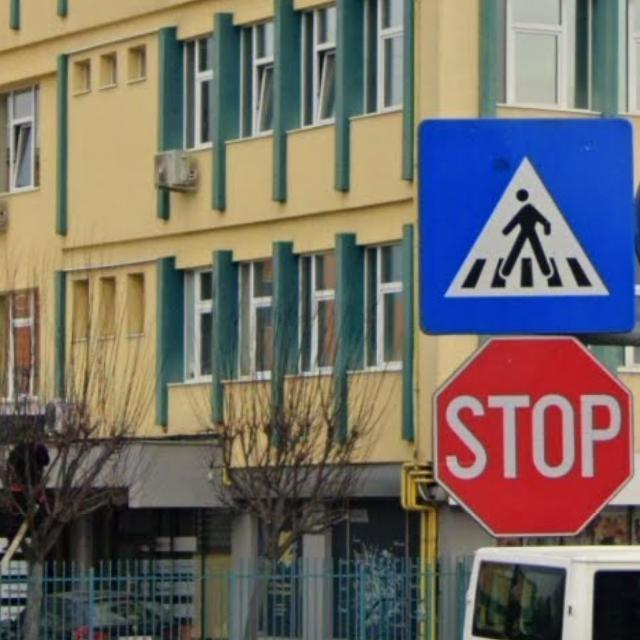info_crosswalk: (413, 112, 637, 336)
prio_stop: (432, 334, 632, 538)
